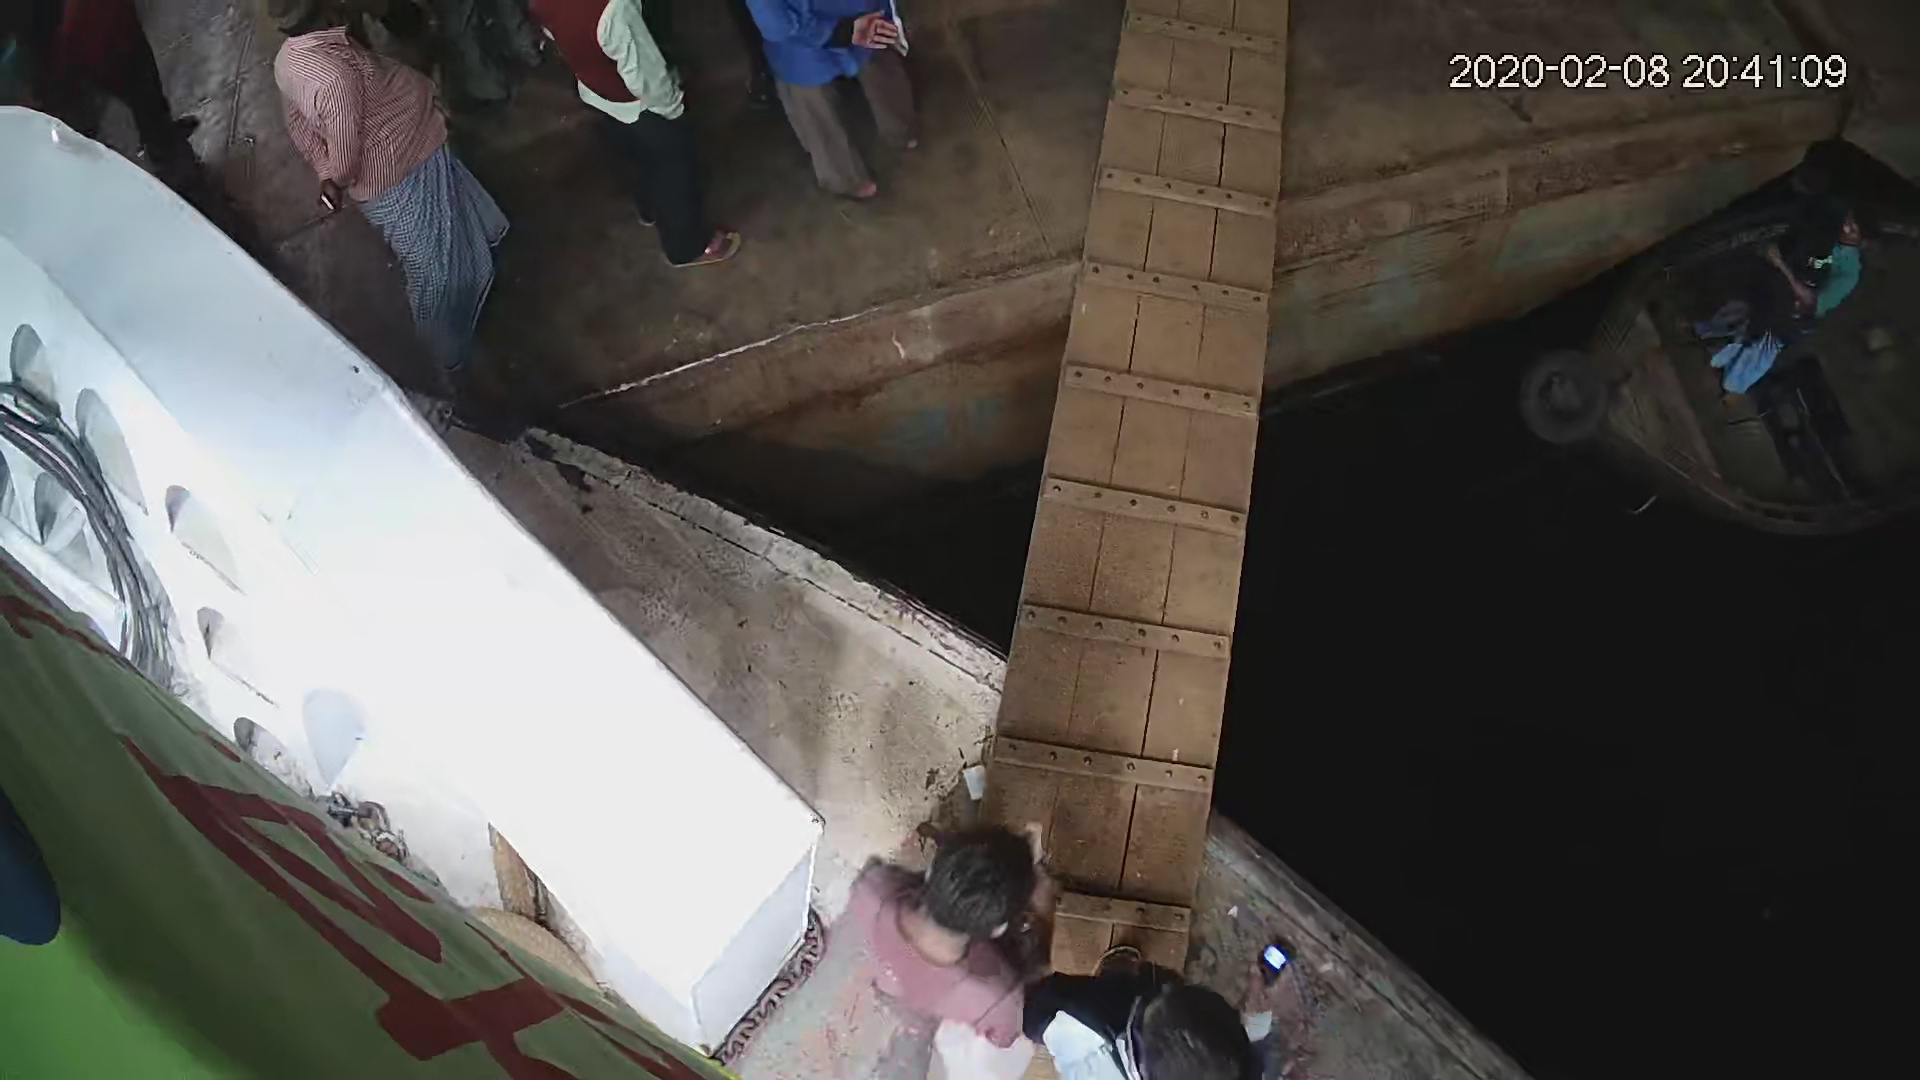person: (257, 1, 517, 395), (529, 1, 746, 276), (846, 811, 1073, 1041), (1690, 195, 1869, 405)
